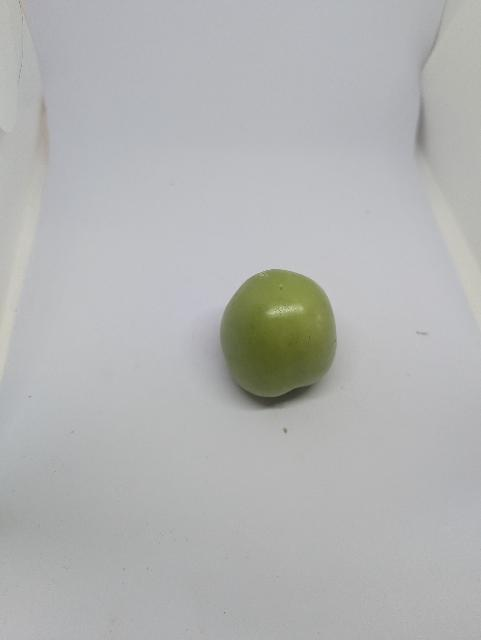green: (208, 254, 357, 422)
